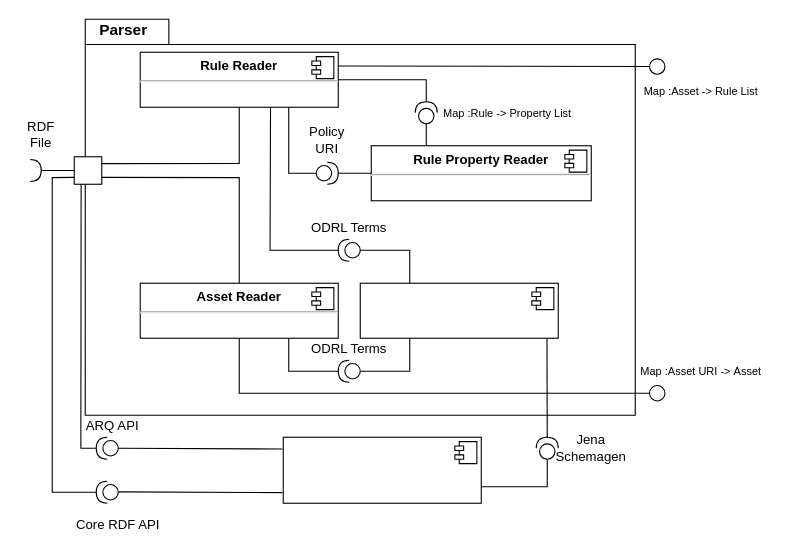
Some shapes in this 807 by 556 pixel diagram are drawn without their labels. The shapes that lost their labels are listed below. From the top down, each one's centre as x and y in pixels, then its label:
At (x=458, y=310): "ODRL Vocabolary constants".
At (x=381, y=469): "Apache Jena".
